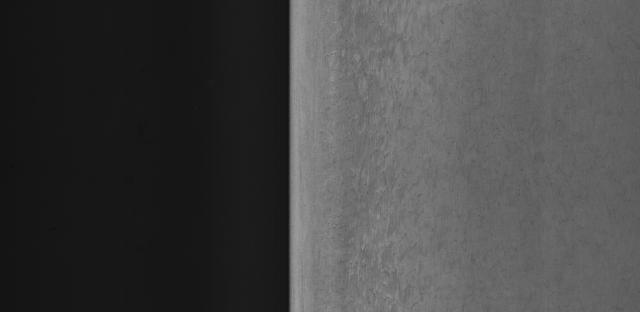silk_spot: (328, 14, 448, 287)
